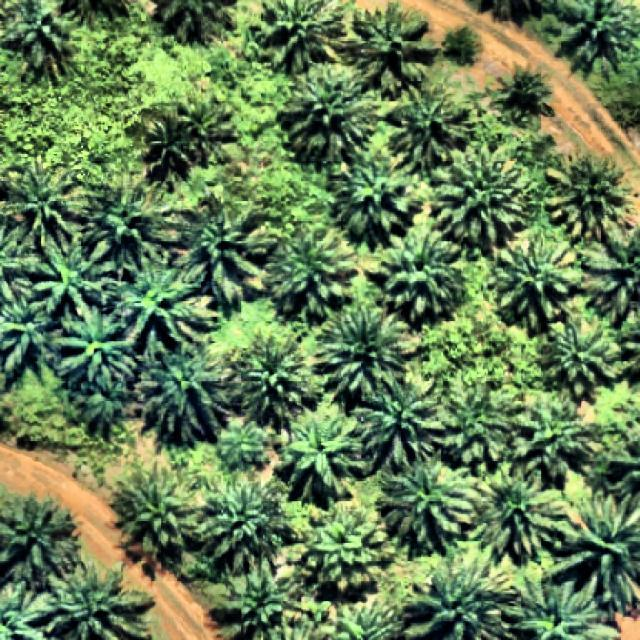Kelapa_Sawit: (180, 192, 280, 320), (430, 142, 541, 255), (314, 294, 417, 412), (105, 460, 204, 580), (73, 173, 179, 282), (199, 468, 304, 576), (140, 338, 237, 453), (280, 60, 380, 169), (260, 221, 360, 330), (378, 450, 480, 556), (372, 220, 466, 334), (492, 228, 588, 336), (298, 495, 397, 597), (472, 464, 568, 568), (28, 227, 118, 336), (346, 1, 442, 101), (46, 298, 148, 391), (434, 378, 538, 469), (118, 258, 217, 352), (546, 147, 636, 246), (384, 82, 476, 176), (326, 153, 423, 242), (232, 330, 317, 430), (516, 396, 612, 482), (278, 413, 370, 501), (363, 374, 445, 472), (540, 323, 622, 399), (71, 364, 147, 438), (178, 87, 240, 167), (140, 111, 197, 187), (492, 60, 558, 125)
